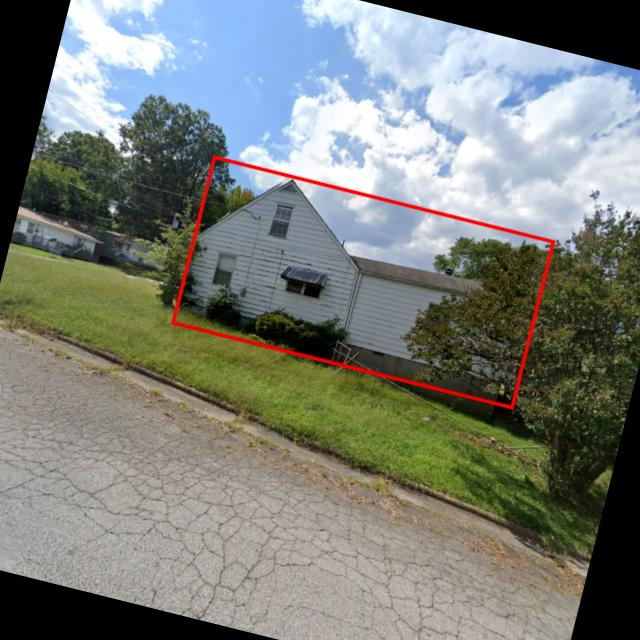House: (170, 159, 538, 425), (10, 205, 106, 262), (92, 228, 169, 270)
